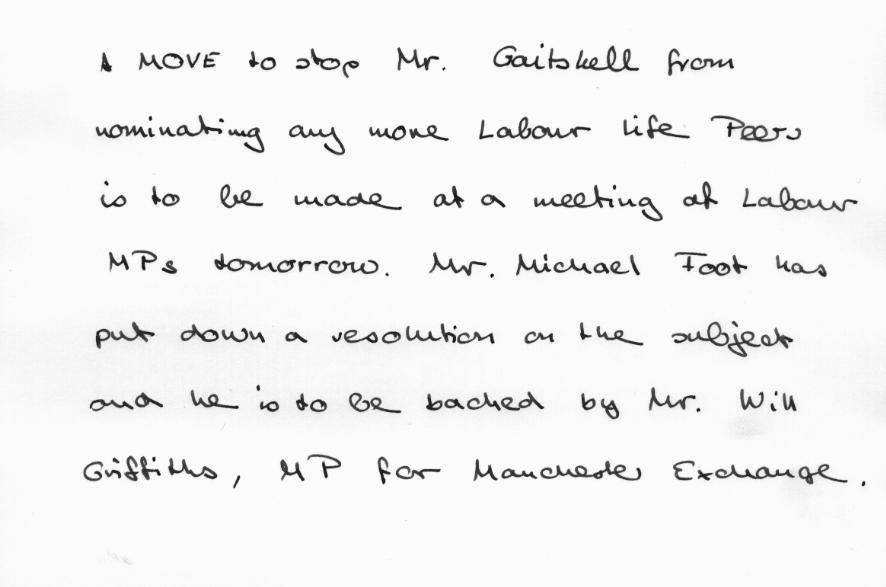text: (97, 178, 859, 225), (92, 110, 802, 157), (93, 317, 795, 362), (81, 452, 870, 491), (87, 382, 800, 422), (97, 40, 737, 81), (105, 247, 831, 281)
